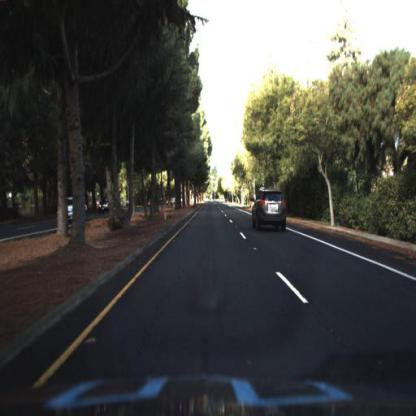car: (252, 191, 288, 233), (98, 197, 115, 215)
